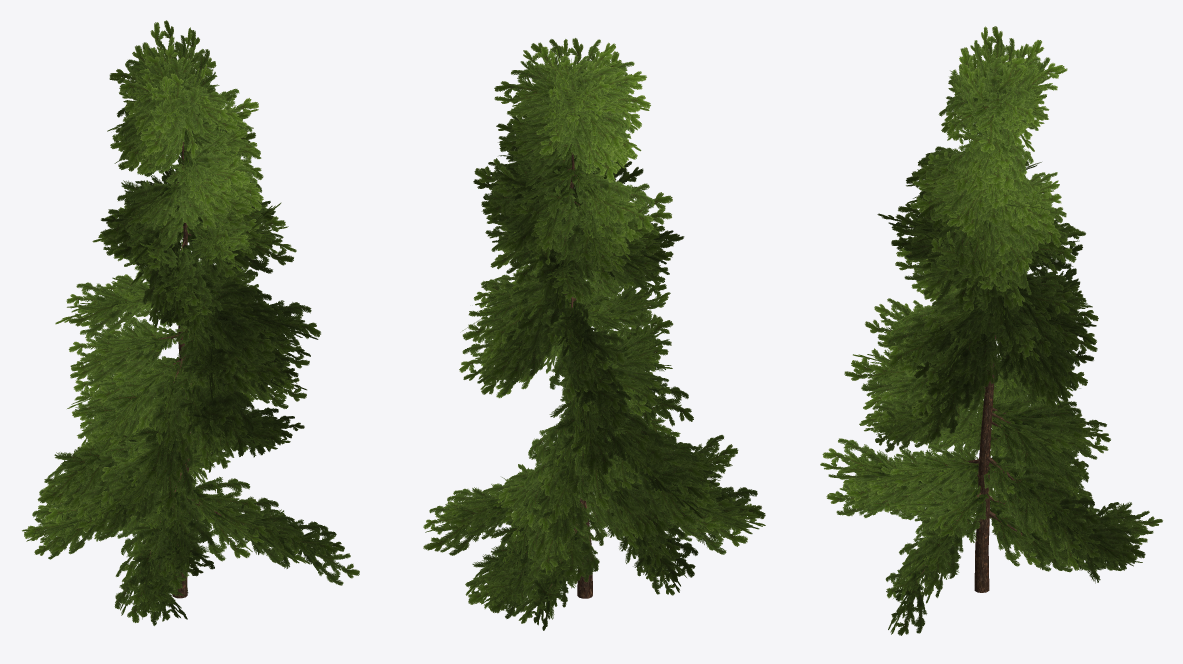
Rendered from windswept-pine.glb.
3 views of the same model, side by side, from view 1: azimuth 30°, elevation 25°; view 2: azimuth 150°, elevation 25°; view 3: azimuth 270°, elevation 25° (orthographic). The views are drawn at different scales.
Parts seen in each view (by area): view 1: Canopy, Branches; view 2: Canopy, Branches; view 3: Canopy, Branches.
Part boxes in pixels (x1,y1,x2,y2): Canopy: (22,20,359,625); Branches: (150,142,249,598); Canopy: (423,38,765,630); Branches: (549,144,592,598); Canopy: (820,26,1162,635); Branches: (921,335,1038,592).
Size of the model in its own units: 6.03 by 11 by 6.3.
Materials: 2 (2 with a texture image).
